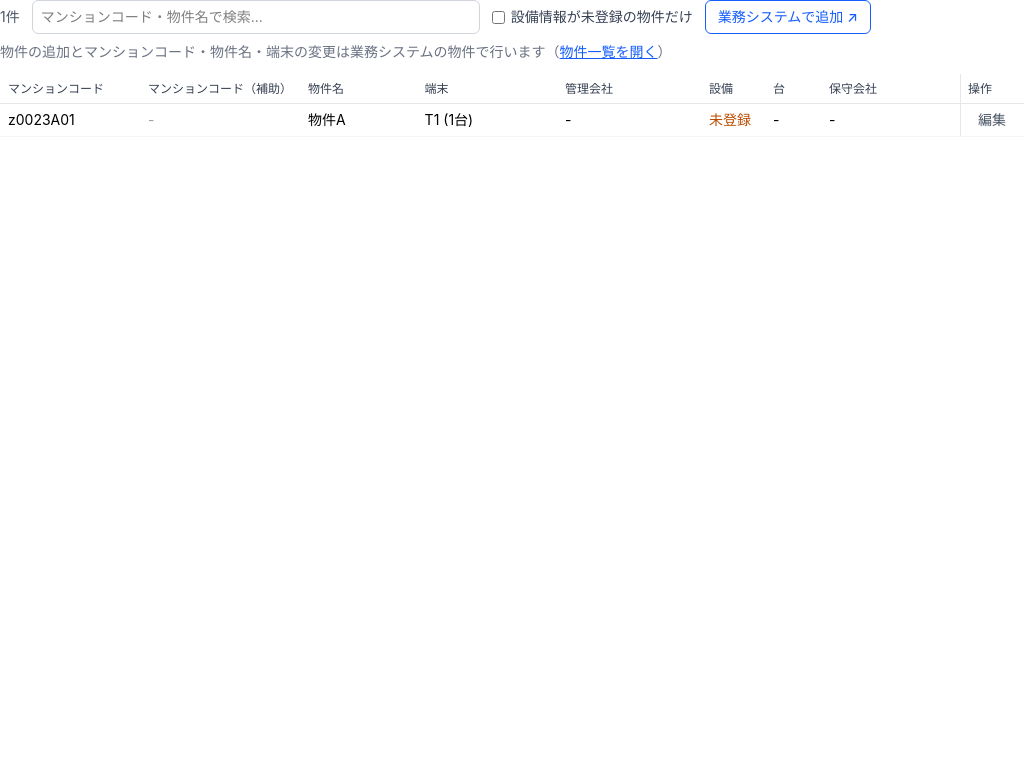
PropertiesMaster › opens 編集 with read-only code, name and terminals
Click the button "編集" at coordinates (992, 120), box [968, 106, 1016, 134]
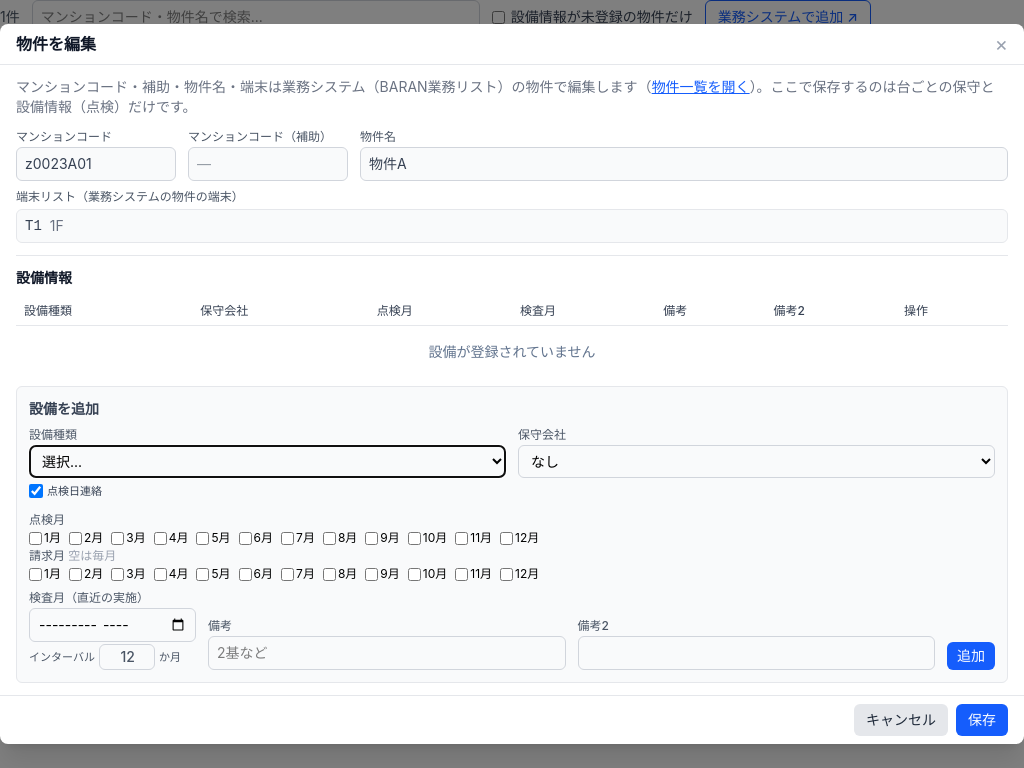
Now the field labelled "マンションコード" holds "z0023A01", box [16, 147, 176, 181]
Now the field labelled "物件名" holds "物件A", box [360, 147, 1008, 181]
Now the list named "端末リスト" shows "T1", box [25, 218, 42, 234]
